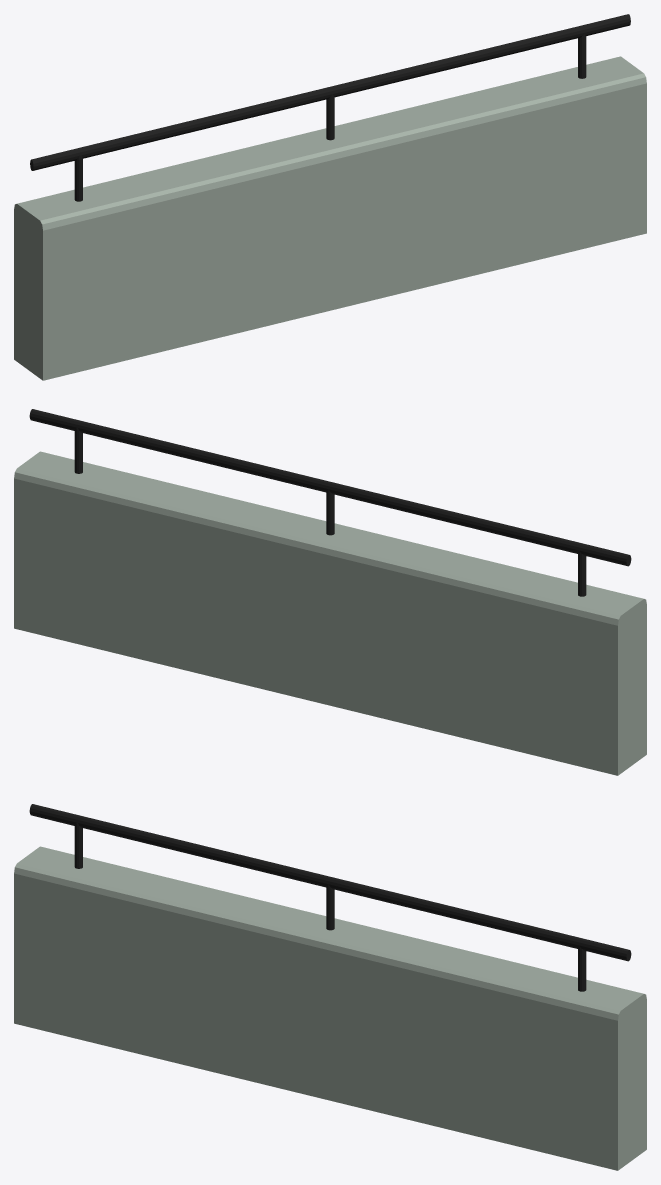
Rendered from Race_Fence_2.fbx.
The picture shows the model from 3 angles, top to bottom: view 1: azimuth 30°, elevation 25°; view 2: azimuth 150°, elevation 25°; view 3: azimuth 330°, elevation 25°; orthographic projection.
Parts seen in each view (by area): view 1: Plane; view 2: Plane; view 3: Plane.
Part boxes in pixels (left/top/right/bottom): Plane: left=14, top=14, right=646, bottom=380; Plane: left=14, top=409, right=646, bottom=775; Plane: left=14, top=804, right=646, bottom=1170.
Size of the model in its own units: 12 by 3.98 by 1.
